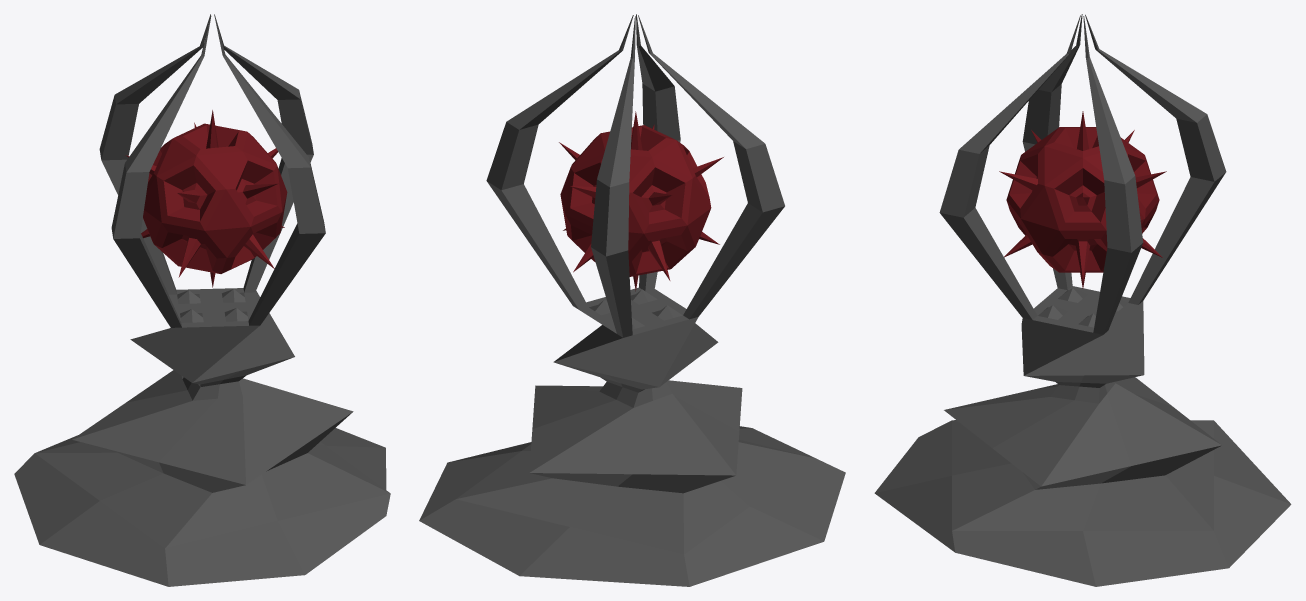
The model's file is Nexus.fbx.
3 renders of one model, left to right at view 1: azimuth 30°, elevation 25°; view 2: azimuth 150°, elevation 25°; view 3: azimuth 270°, elevation 25°, orthographic.
Parts seen in each view (by area): view 1: Cube, Icosphere; view 2: Cube, Icosphere; view 3: Cube, Icosphere.
Part boxes in pixels (left/top/right/bottom): Cube: left=14, top=14, right=390, bottom=586; Icosphere: left=125, top=110, right=287, bottom=287; Cube: left=419, top=14, right=845, bottom=586; Icosphere: left=559, top=111, right=723, bottom=291; Cube: left=874, top=14, right=1291, bottom=586; Icosphere: left=999, top=111, right=1166, bottom=288.
Size of the model in its own units: 1633 by 2090 by 1633.
